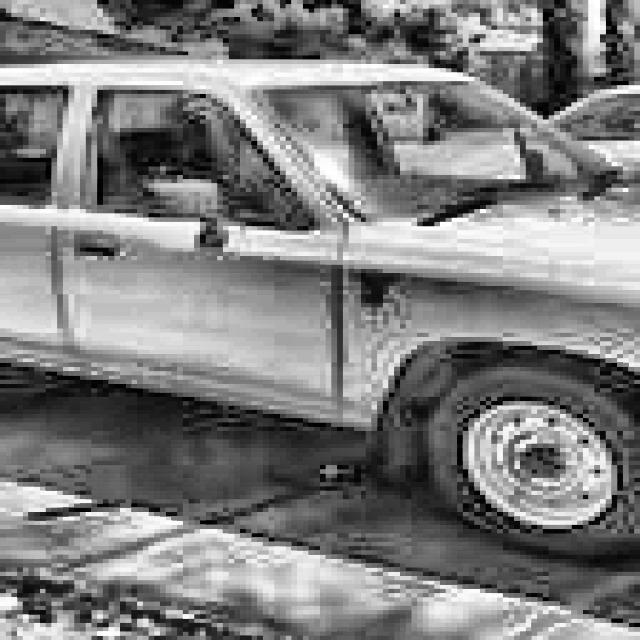light_vehicle: (0, 30, 640, 563)
